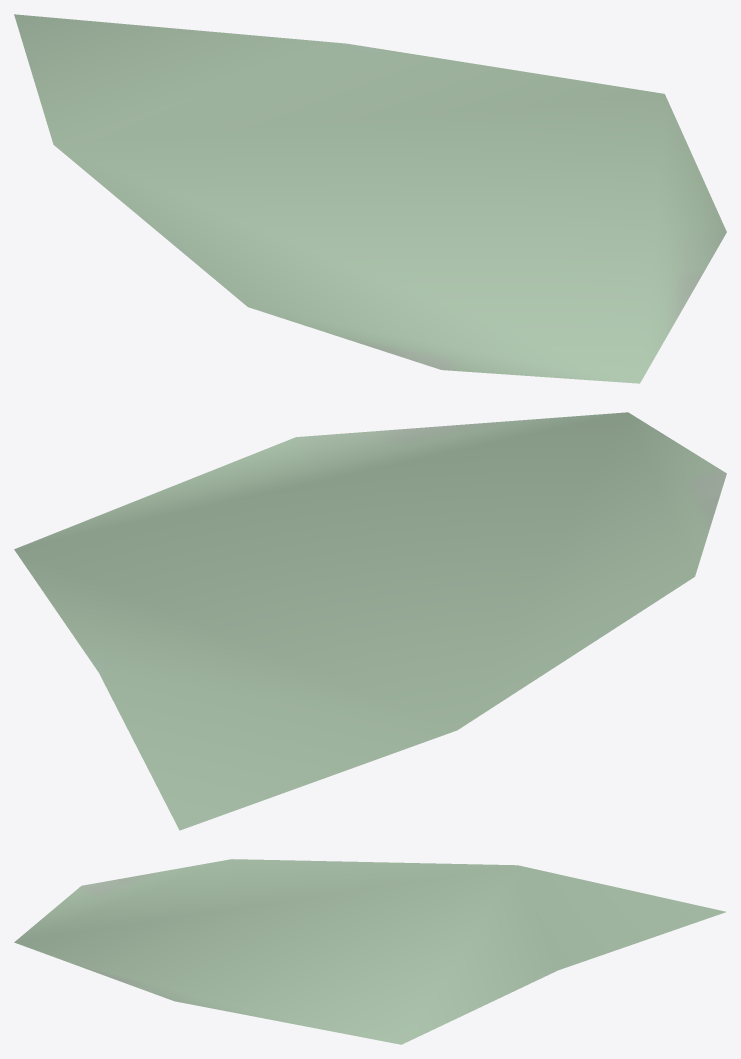
Rendered from TROLLHOLE02_HOLECAP146.fbx.
The picture shows the model from 3 angles, top to bottom: view 1: azimuth 30°, elevation 25°; view 2: azimuth 150°, elevation 25°; view 3: azimuth 270°, elevation 25°; orthographic projection. The views are drawn at different scales.
Visible parts, largest first — view 1: TROLLHOLE02_HOLECAP146; view 2: TROLLHOLE02_HOLECAP146; view 3: TROLLHOLE02_HOLECAP146.
Part boxes in pixels (left/top/right/bottom): TROLLHOLE02_HOLECAP146: left=14, top=14, right=726, bottom=383; TROLLHOLE02_HOLECAP146: left=14, top=412, right=726, bottom=830; TROLLHOLE02_HOLECAP146: left=14, top=859, right=725, bottom=1044.
Bounding box in the file's own units: 27900 × 679 × 47428.
1 material, 1 textured.
